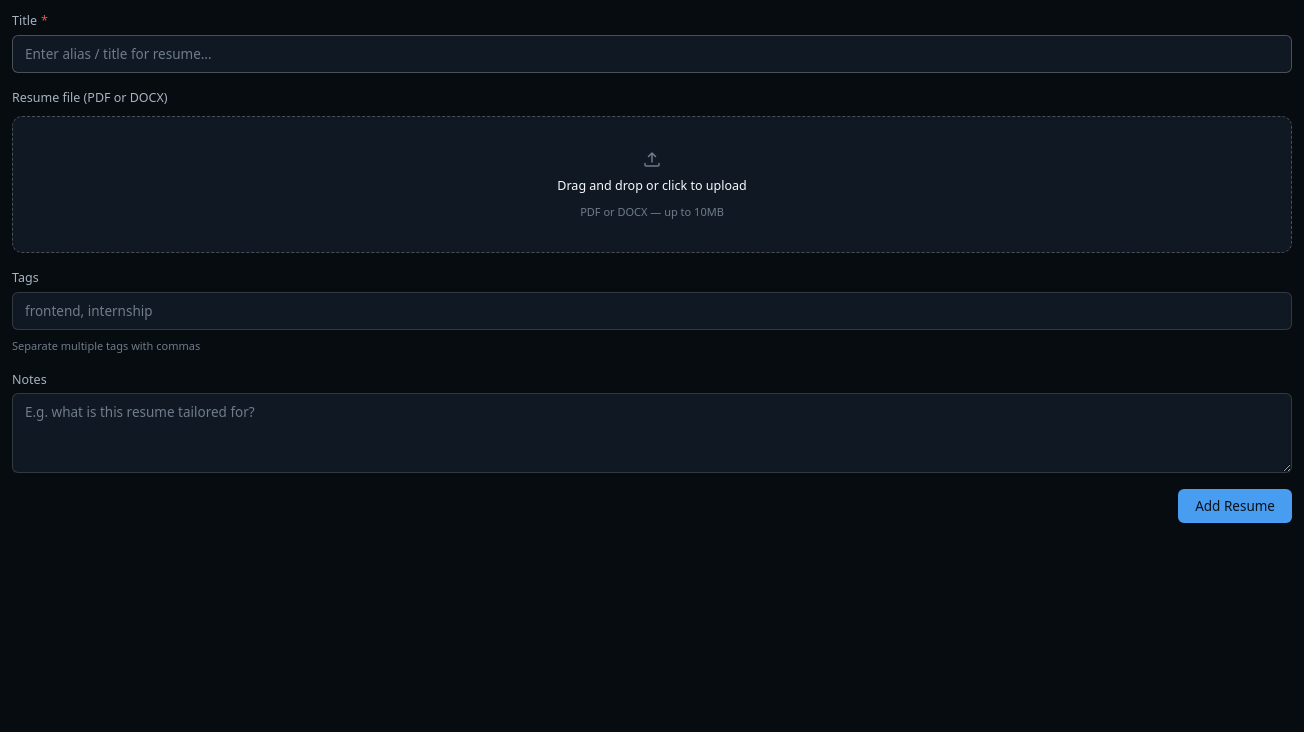
`/resumes/new` form › shows an error when submitting without selecting a file
Type "My Resume" into the field labelled "Title *" at (652,54), box [12, 35, 1292, 73]
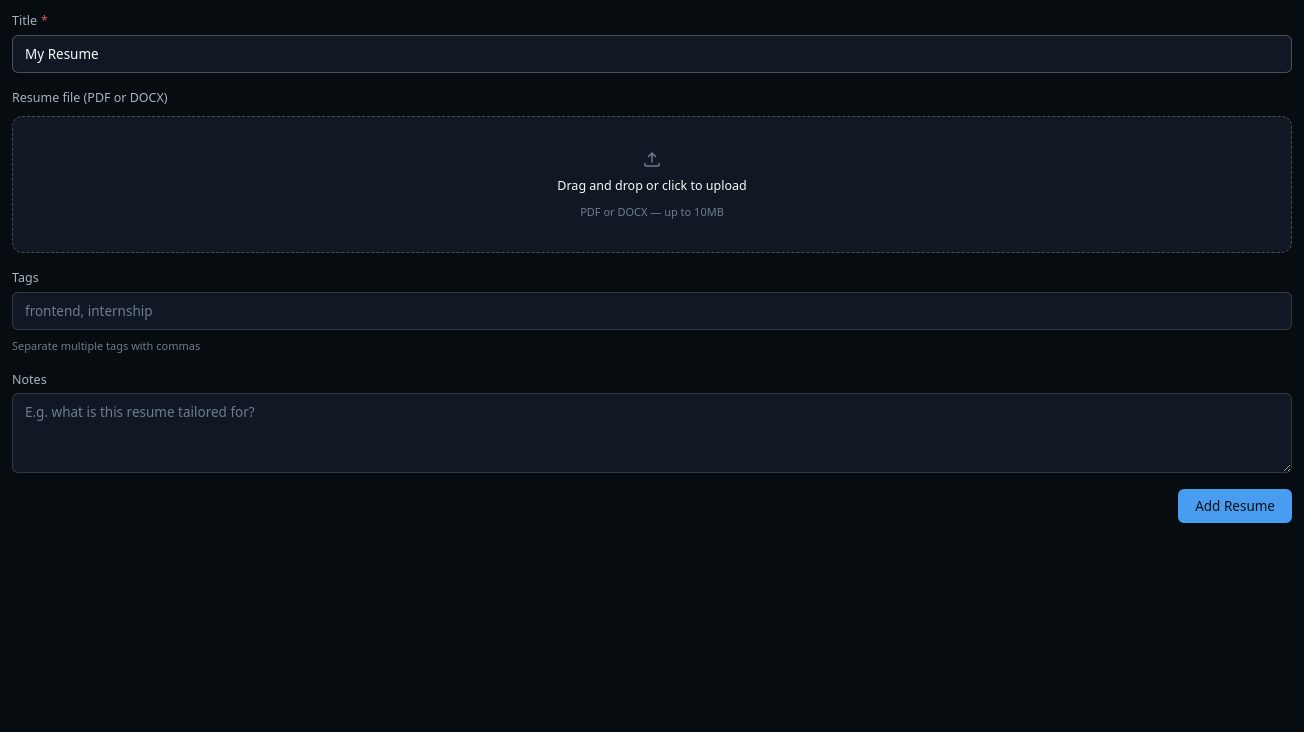
Submit the form named "add resume"
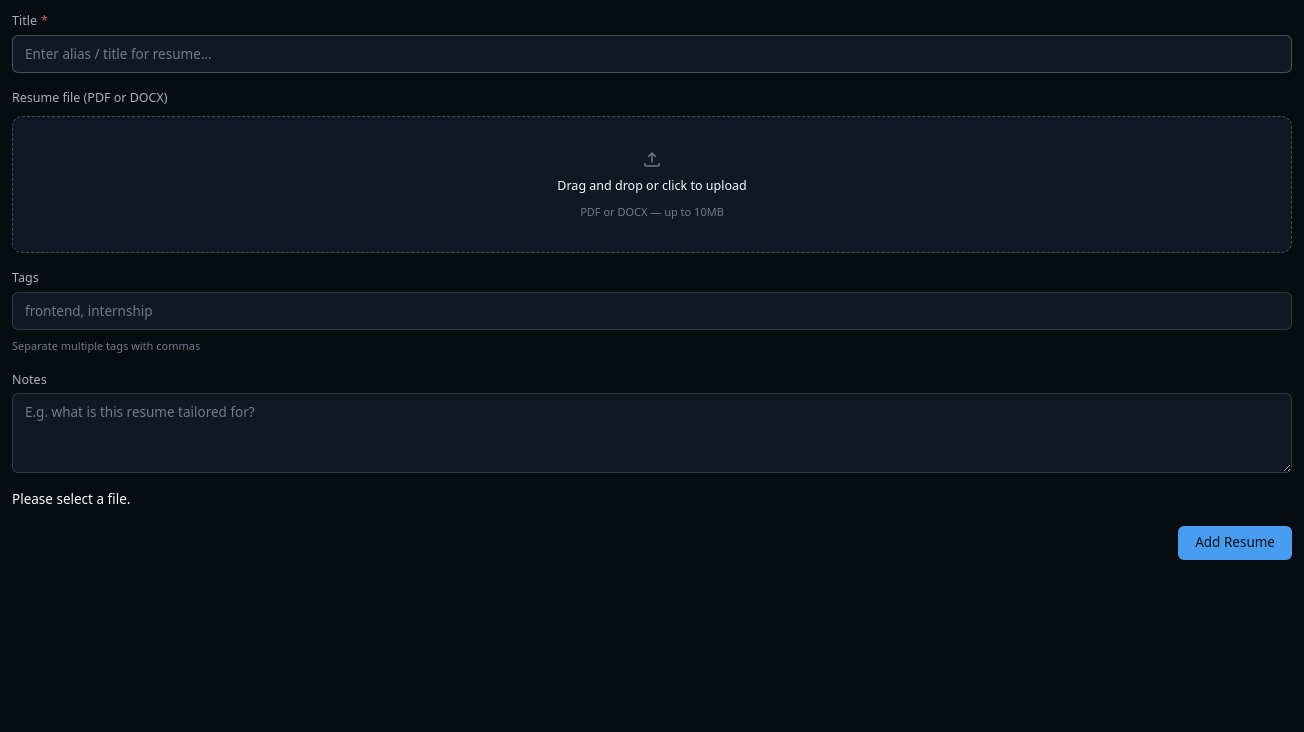
Expected: the text "Please select a file." is shown, [12, 490, 130, 508]
